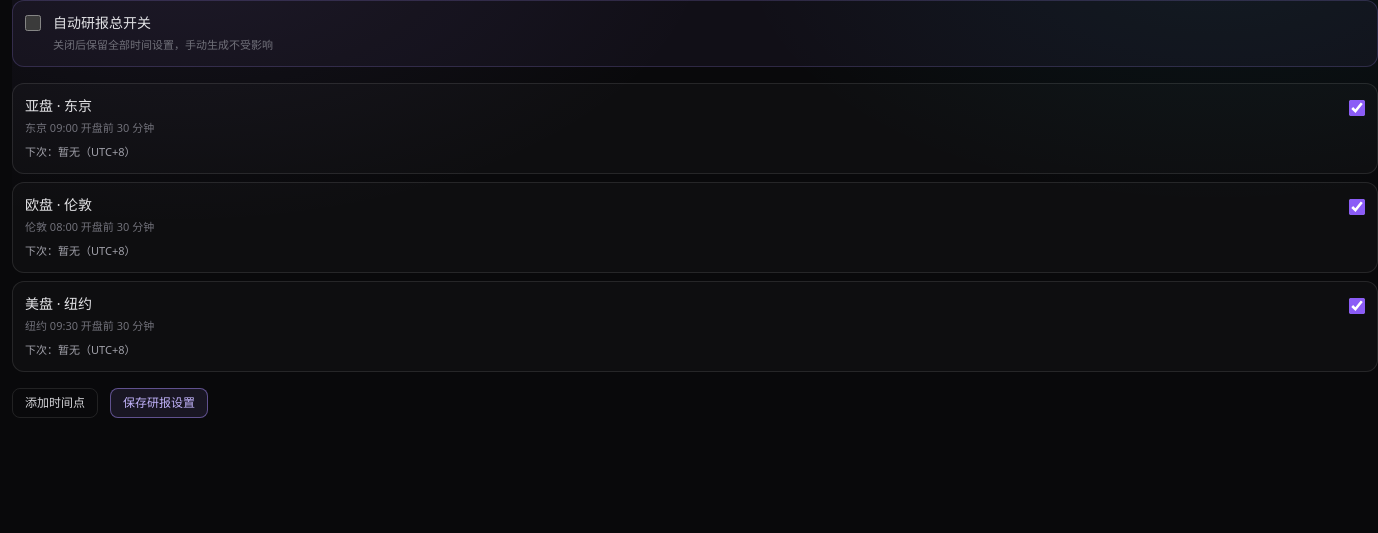
it: ResearchScheduleForm(研报自动执行配置) › 启用预设时拒绝冲突时间，保存失败时保留未保存内容和后端原因
Click the button "添加时间点": (55, 402) [12,388,98,418]
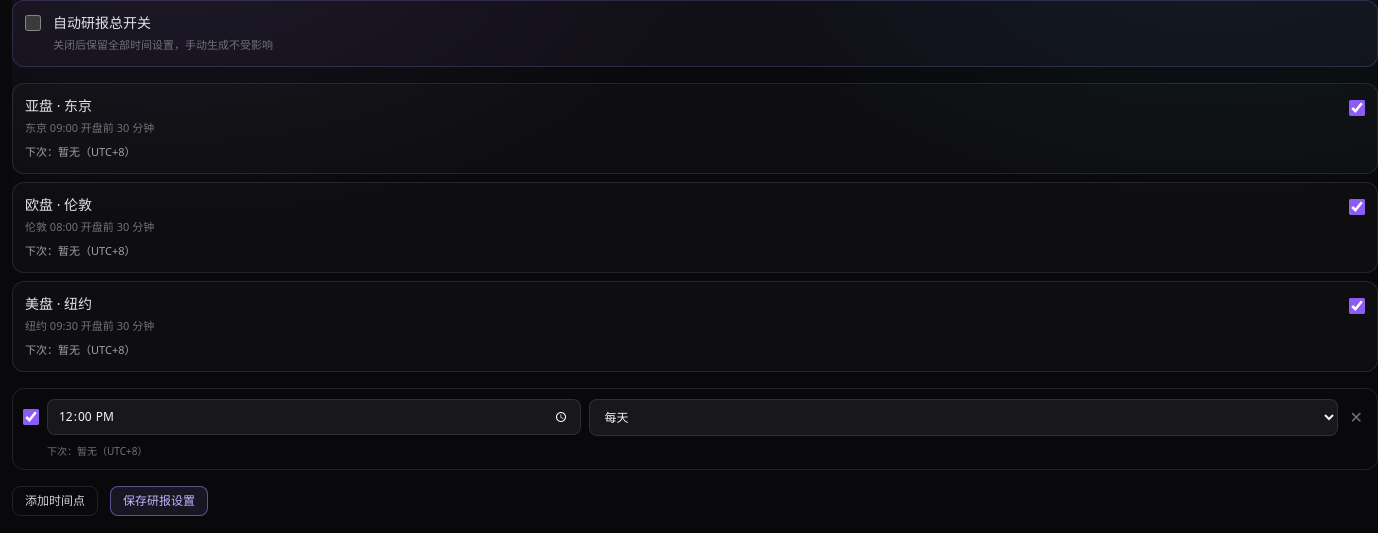
Replace the text in the time field named "自定义执行时间 1" with "07:30": (314, 417) [47,399,581,435]
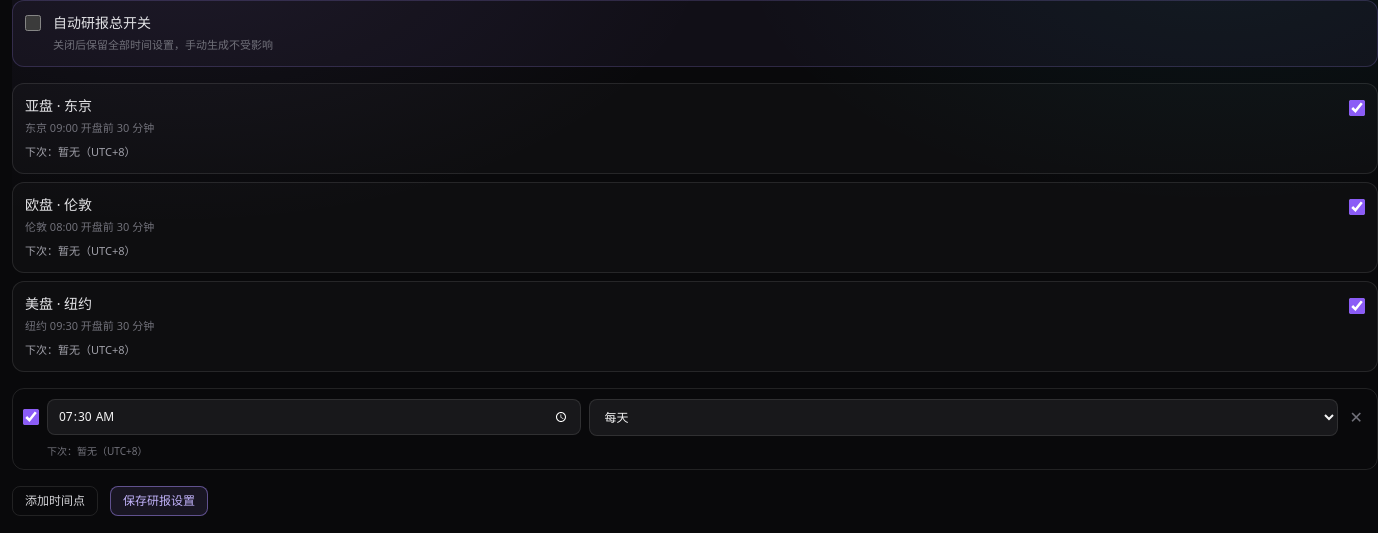
Click the button "保存研报设置": (159, 500) [110,486,208,516]
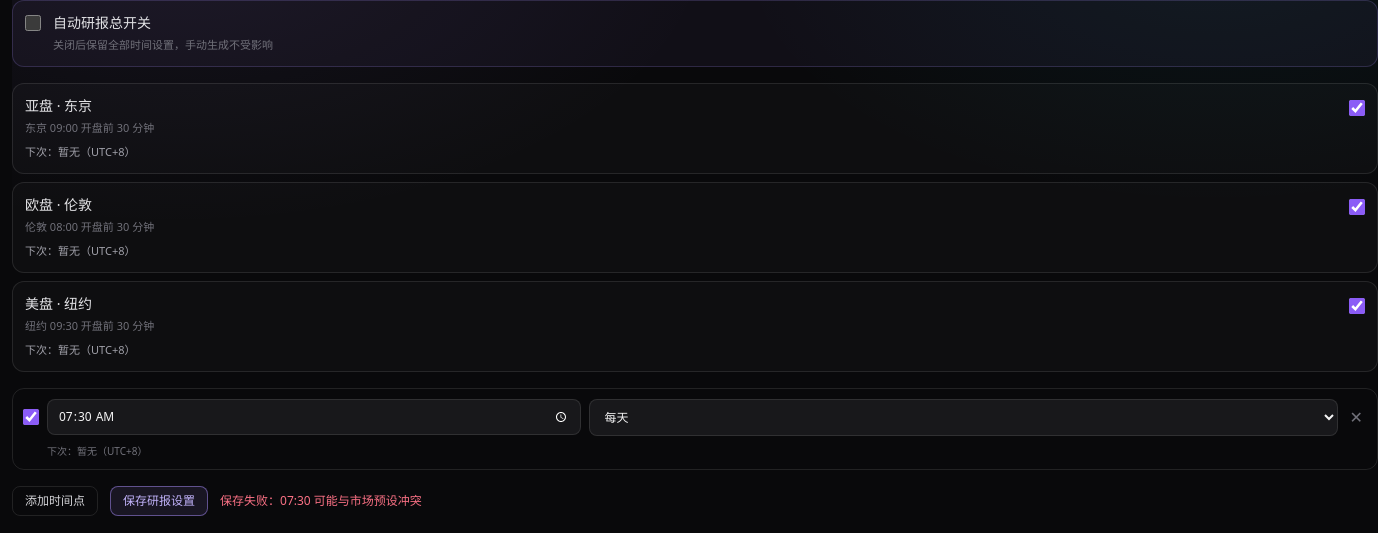
Expected: the message shows "可能与市场预设冲突", [280,492,422,508]
Replace the text in the time field named "自定义执行时间 1" with "12:31": (314, 417) [47,399,581,435]
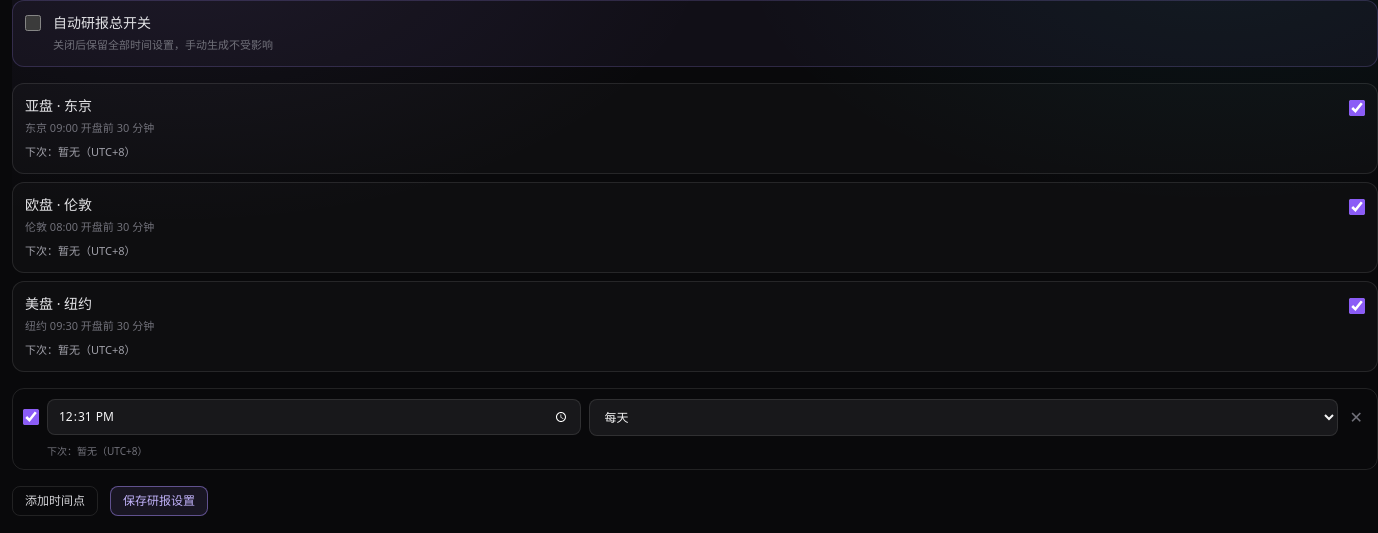
Click the button "保存研报设置": (159, 500) [110,486,208,516]
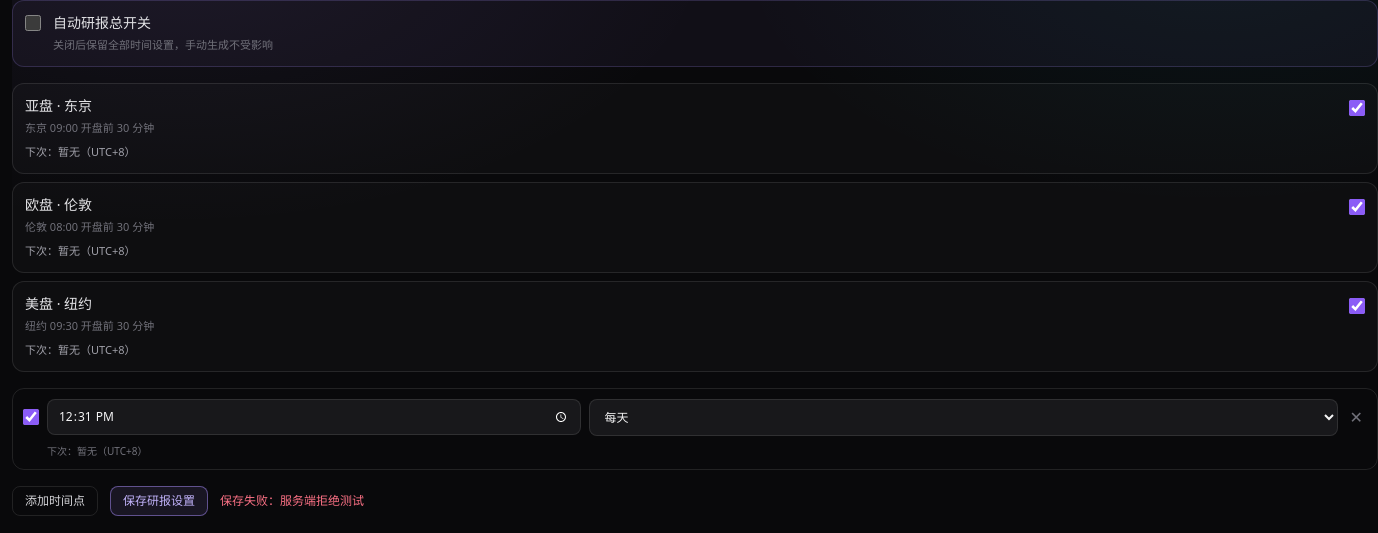
Expected: the message shows "服务端拒绝测试", [280,492,364,508]
